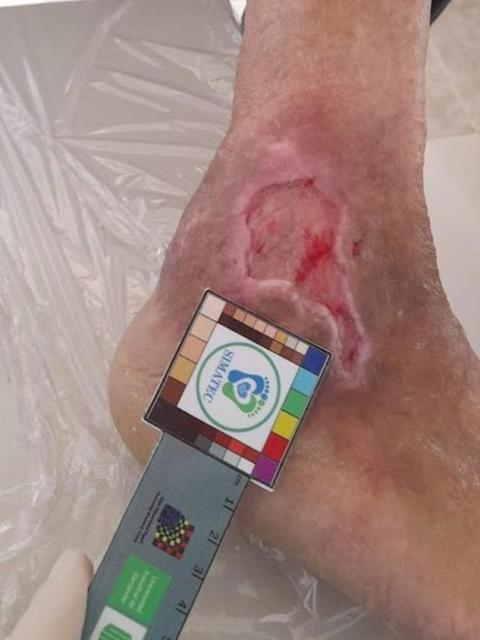wound: (243, 178, 369, 373)
